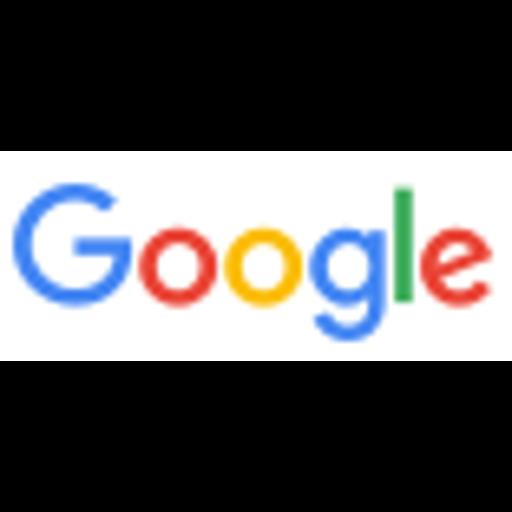Google: (0, 151, 512, 361)
